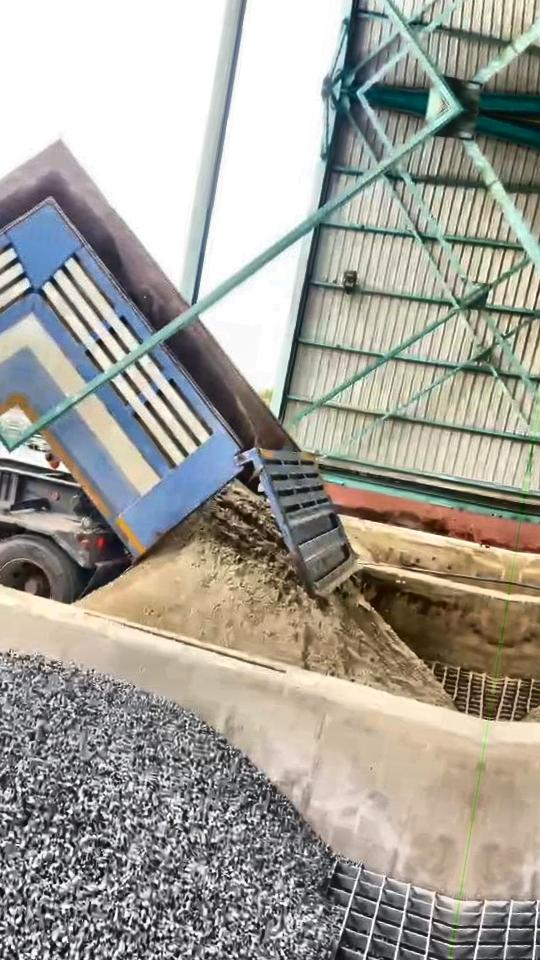gravel: (0, 654, 340, 960)
sand: (77, 485, 451, 706)
